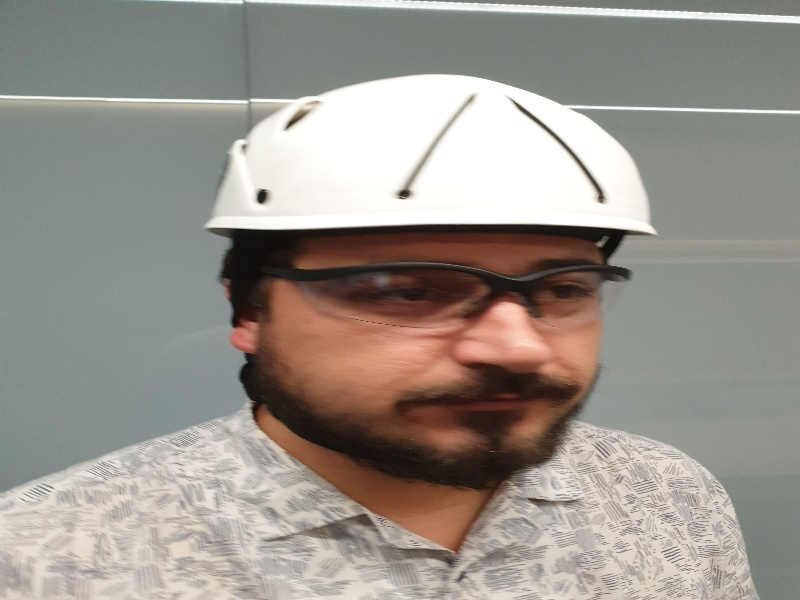Baret: (220, 88, 678, 241), (257, 254, 645, 325)
